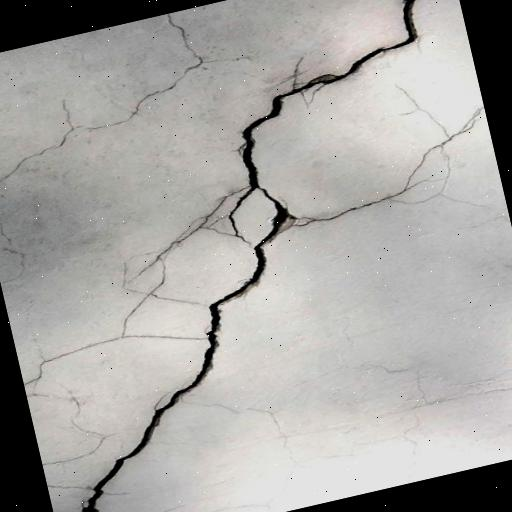spalling: (73, 0, 486, 512), (0, 17, 251, 187), (24, 191, 225, 391)
